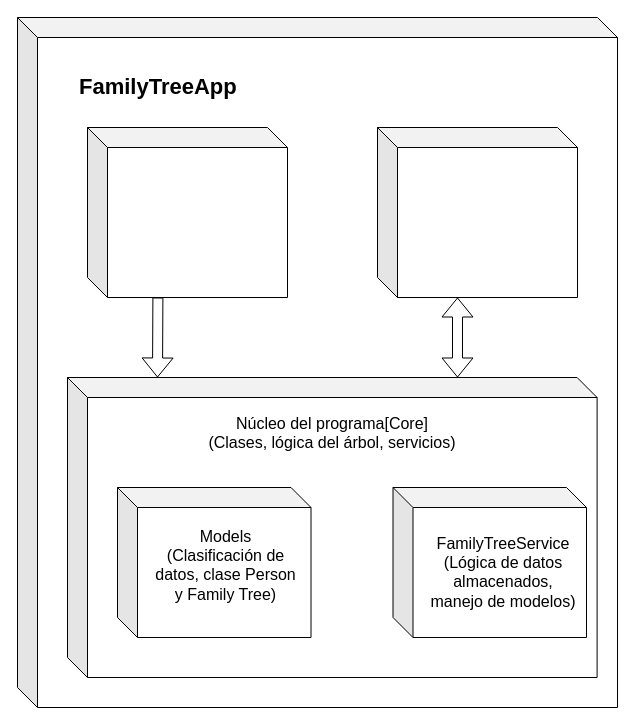
Image size: 635x725. Some labels were removed from this diagram. The shapes that lost their labels are listed below. From the top down, each one's box as (x1, y1, x2, y2) in pixels, then its label:
(86, 126, 288, 298): Capa UI (Conexión con el usuario, WinForms y WebView2)
(376, 126, 578, 298): Capa de datos (Archivos c#, almacenamiento datos del programa y del usuario)
